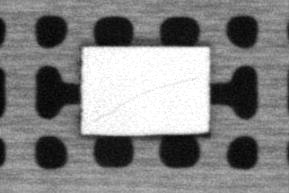DIE_CRACK: (95, 76, 201, 123)
